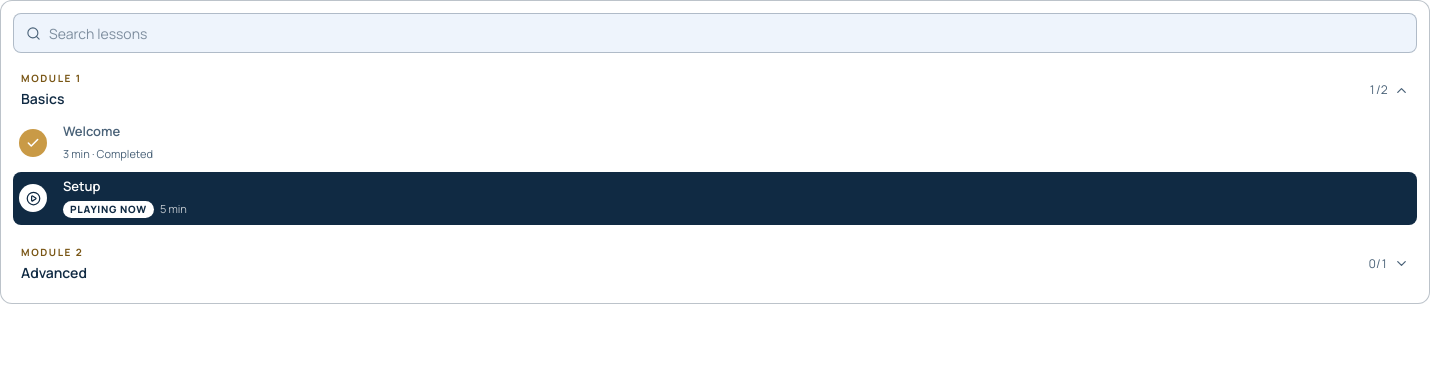
Test: CoursePlaylist › destaca a aula atual, abre so o modulo dela e fecha os outros
Expected: the text "Deep dive" is not shown
Click the button "Module 2 Advanced 0/1": (52, 252) [13,237,1417,291]
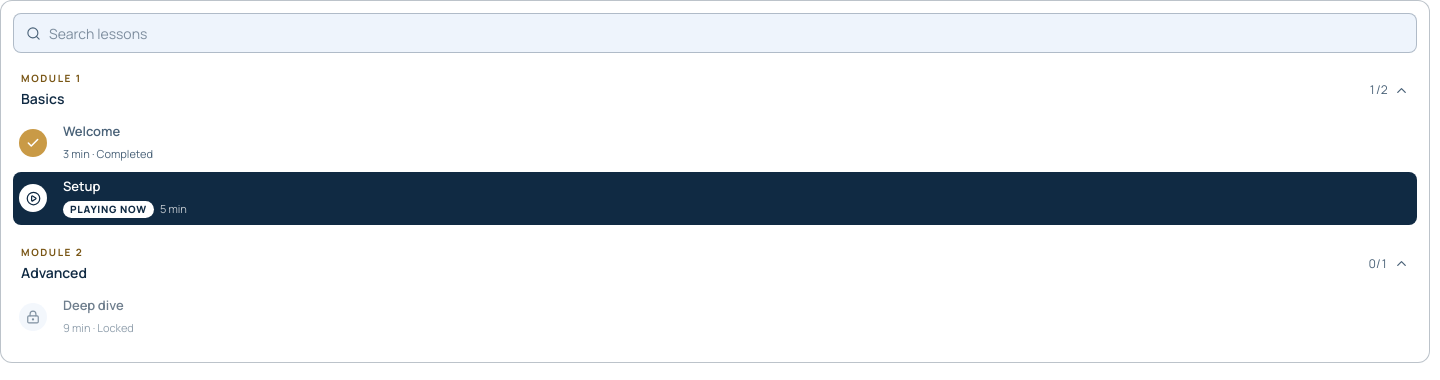
Now the button "Module 2 Advanced 0/1" is expanded, box [13,237,1417,291]
Now the button "Deep dive 9 min · Locked" is shown, box [55,291,1409,344]
